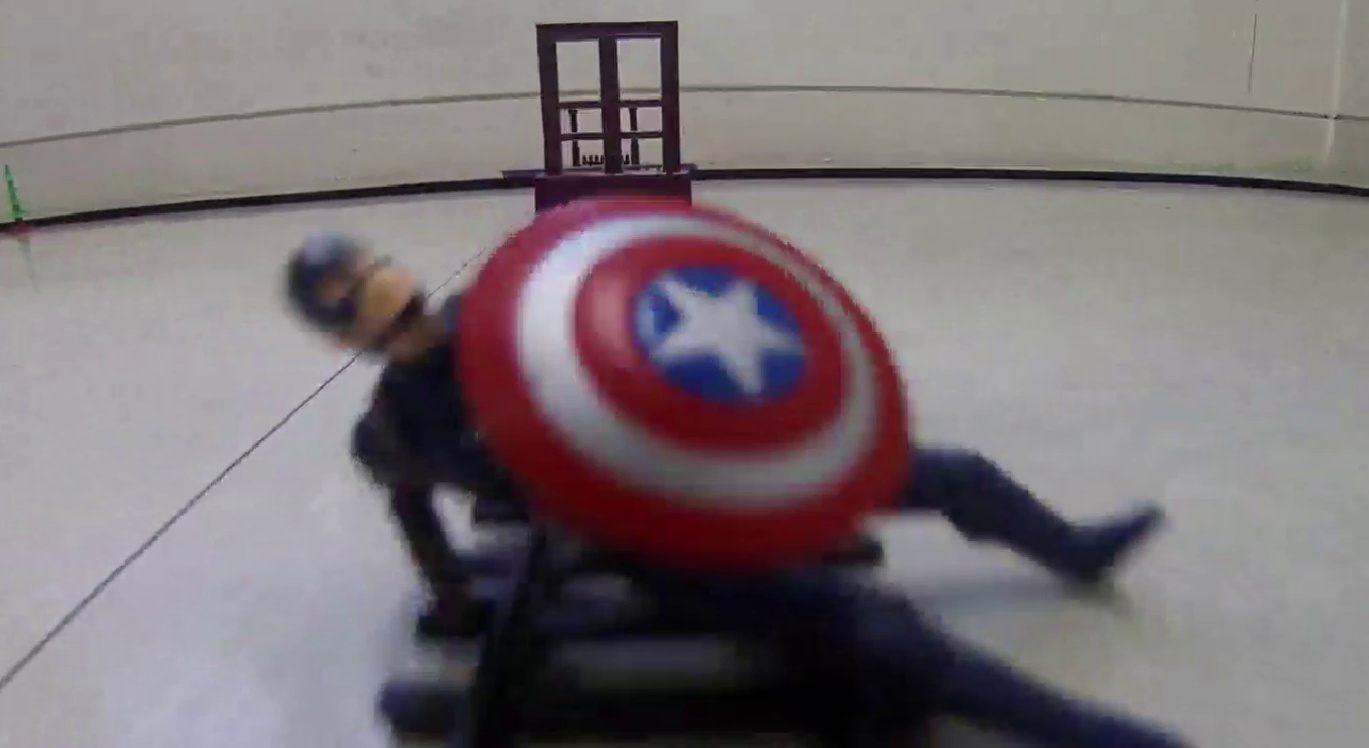people: (285, 195, 1199, 748)
